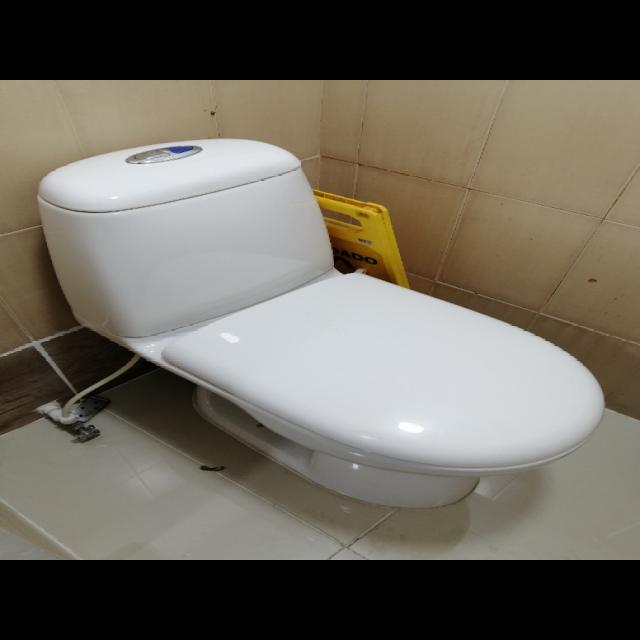toilet: (35, 137, 606, 509)
